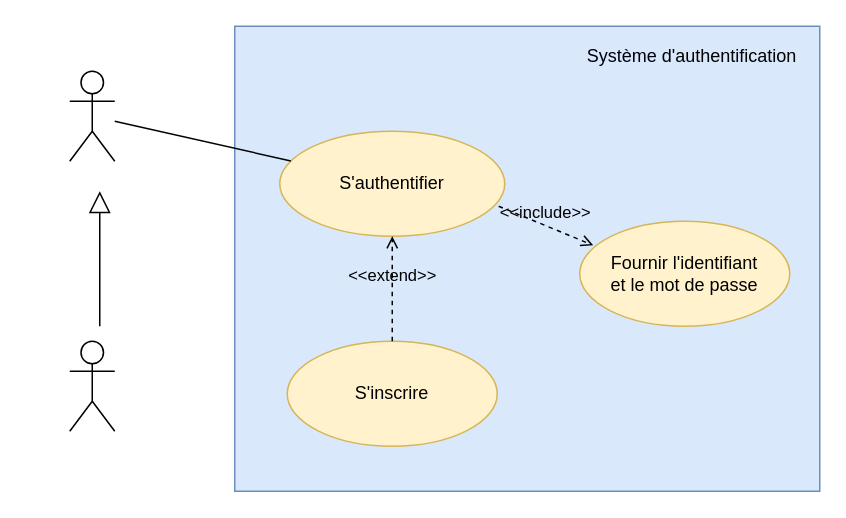
This 846x518 diagram has some shape labels left out. The shapes that lost their labels are listed below. From the top down, each one's centre as x and y in pixels, then its label:
At [91,115]: "Utilisateur inscrit".
At [91,385]: "Administrateur".
